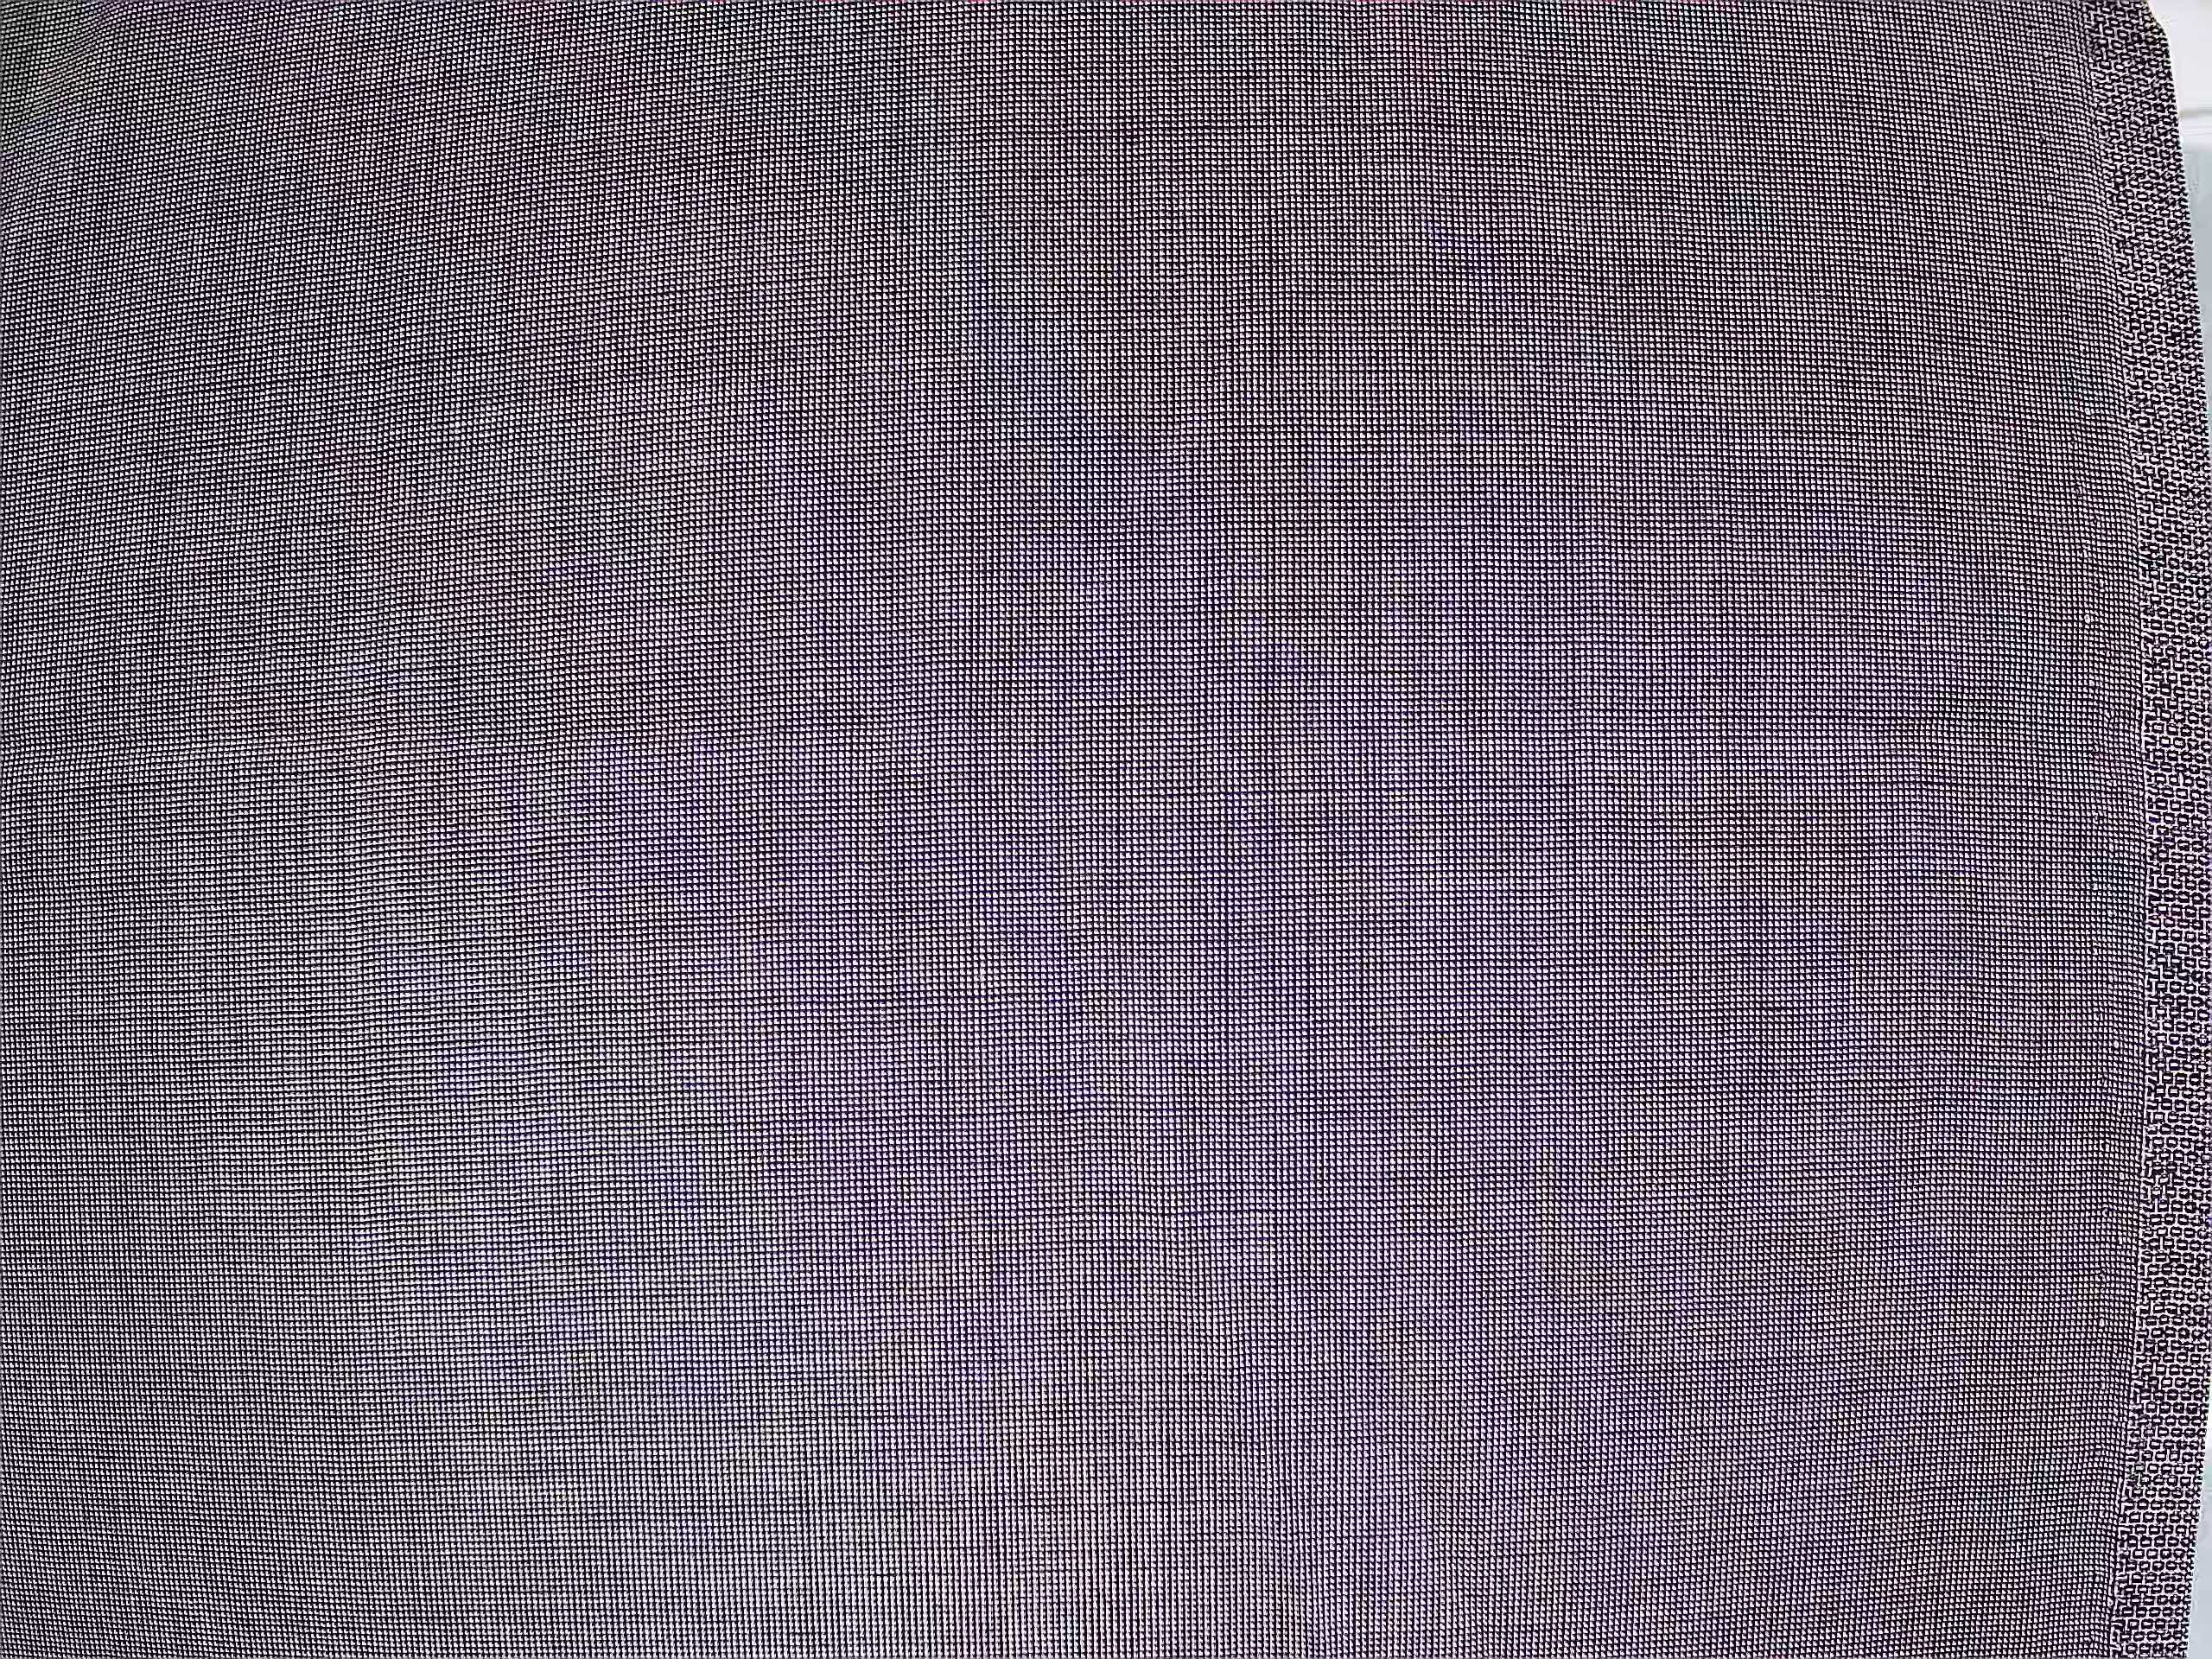others: (2022, 26, 2125, 1073)
